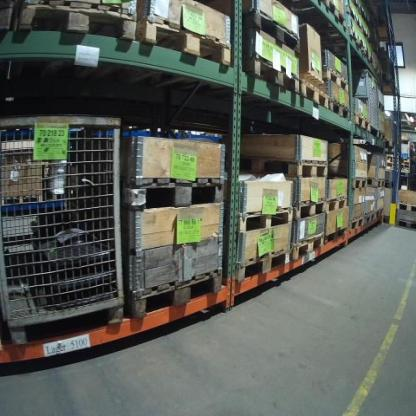pallet: (131, 14, 229, 68), (15, 1, 138, 44), (126, 268, 222, 321), (117, 173, 224, 205), (234, 8, 304, 56), (237, 55, 299, 97), (239, 152, 330, 180), (236, 247, 294, 287), (236, 206, 295, 233), (294, 76, 328, 115), (292, 230, 324, 265), (310, 5, 349, 33), (296, 193, 328, 223), (331, 28, 366, 53), (320, 66, 349, 94), (285, 1, 332, 15), (327, 100, 351, 124), (323, 195, 350, 215), (324, 225, 349, 245), (343, 9, 366, 30), (352, 113, 371, 134), (346, 215, 363, 237), (347, 175, 369, 191), (366, 177, 387, 191), (396, 216, 416, 230), (396, 201, 416, 212), (366, 210, 375, 228), (376, 98, 386, 113), (376, 206, 386, 218), (378, 131, 387, 143)
stillage: (3, 115, 128, 346), (350, 65, 380, 139), (375, 49, 396, 87)
